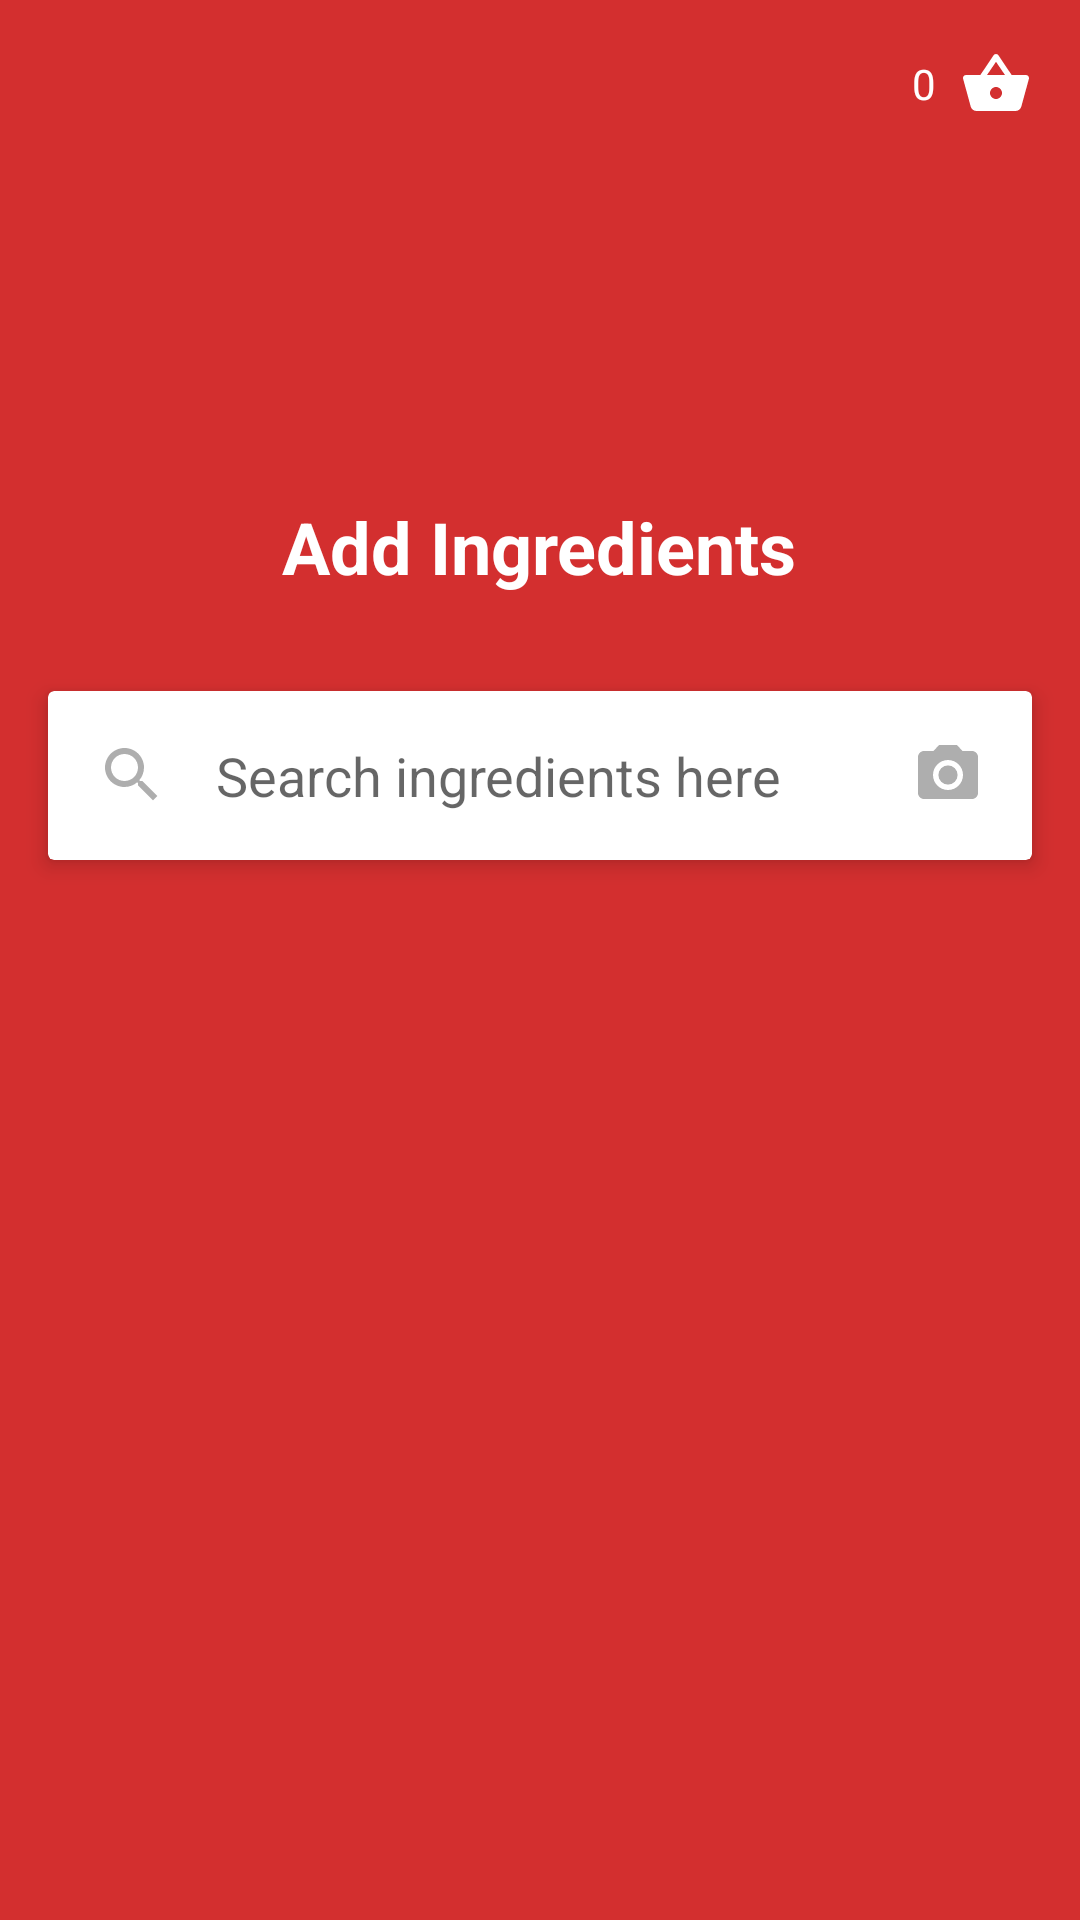

Where to tap for icons on this 1080x1920 app screen, as (x,y):
camera: (948,772)
